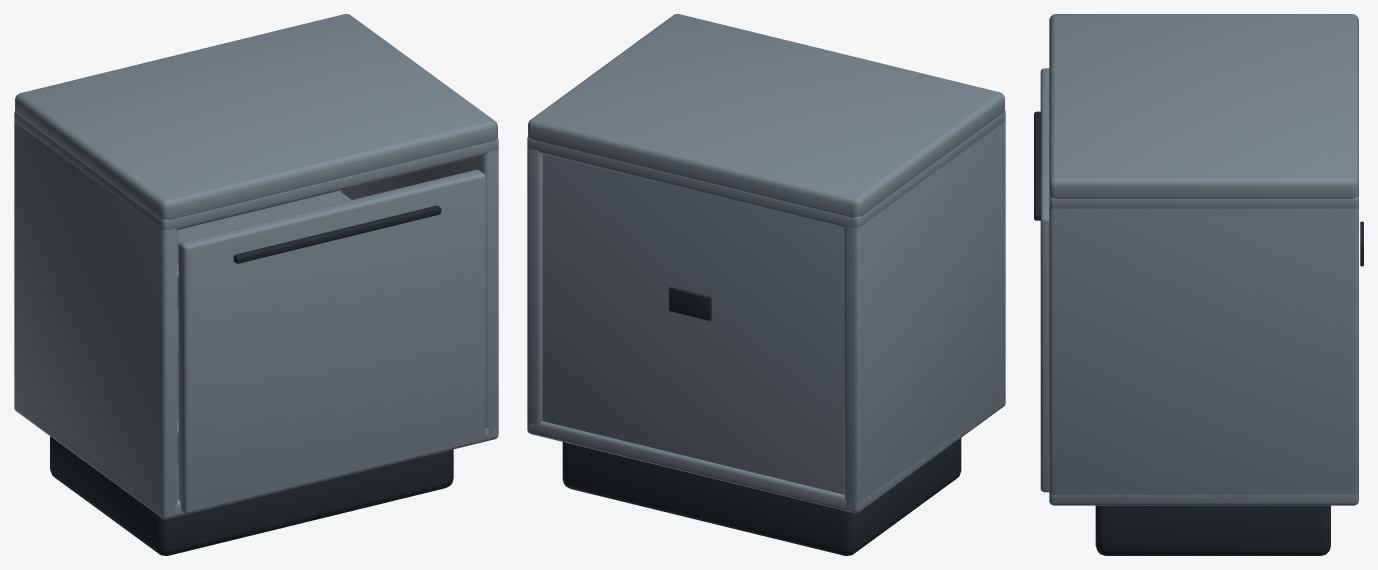
File: nightstand.glb
3 renders of one model, left to right at view 1: azimuth 30°, elevation 25°; view 2: azimuth 150°, elevation 25°; view 3: azimuth 270°, elevation 25°, orthographic. The views are drawn at different scales.
Visible parts, largest first — view 1: catalog_surface_RealismUV, catalog_surface_UVMap; view 2: catalog_surface_RealismUV, catalog_surface_UVMap; view 3: catalog_surface_RealismUV, catalog_surface_UVMap.
Boxes of the visible parts, box(x1,y1,x2,y2) form: catalog_surface_RealismUV: box(14, 14, 498, 519); catalog_surface_UVMap: box(50, 205, 453, 555); catalog_surface_RealismUV: box(527, 14, 1005, 513); catalog_surface_UVMap: box(562, 287, 961, 555); catalog_surface_RealismUV: box(1040, 14, 1358, 505); catalog_surface_UVMap: box(1034, 111, 1363, 555).
Size of the model in its own units: 0.52 by 0.56 by 0.43.
